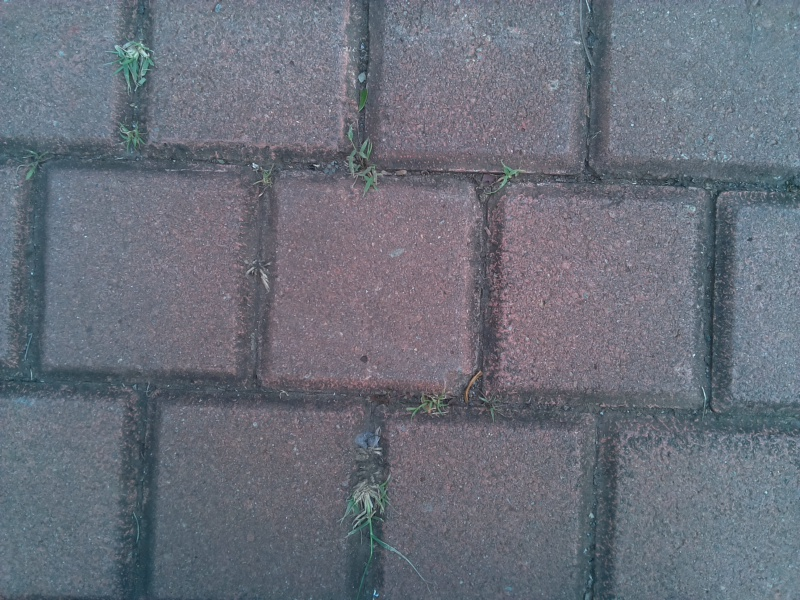Weed: (334, 474, 398, 557), (332, 122, 388, 196), (107, 32, 153, 95), (13, 141, 56, 187), (112, 112, 154, 158), (471, 386, 510, 432), (406, 384, 450, 424), (240, 252, 279, 289), (484, 161, 524, 196), (248, 159, 282, 197)
